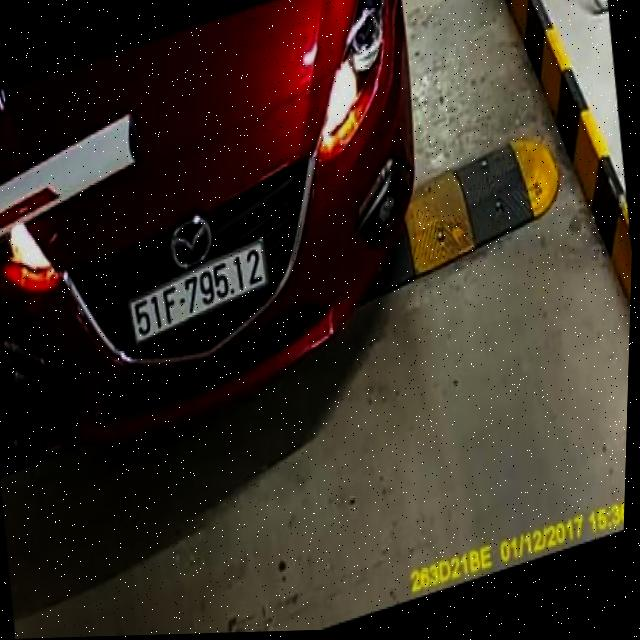car: (0, 0, 426, 449)
plate: (126, 237, 273, 349)
